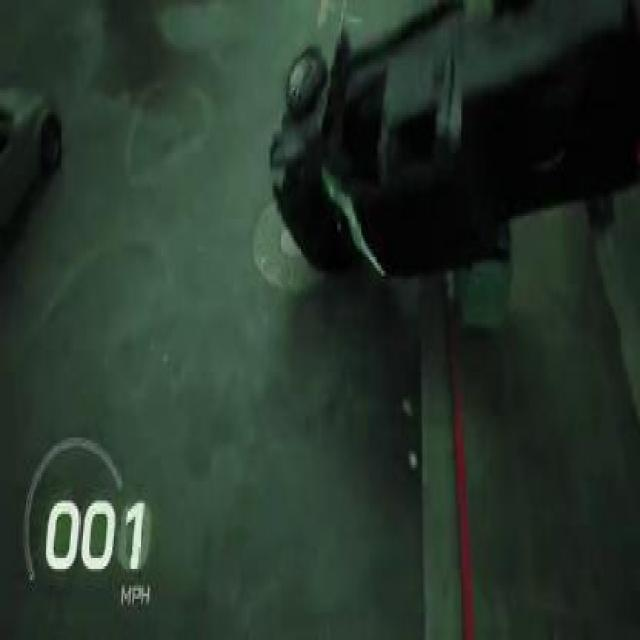accident: (260, 0, 638, 298)
